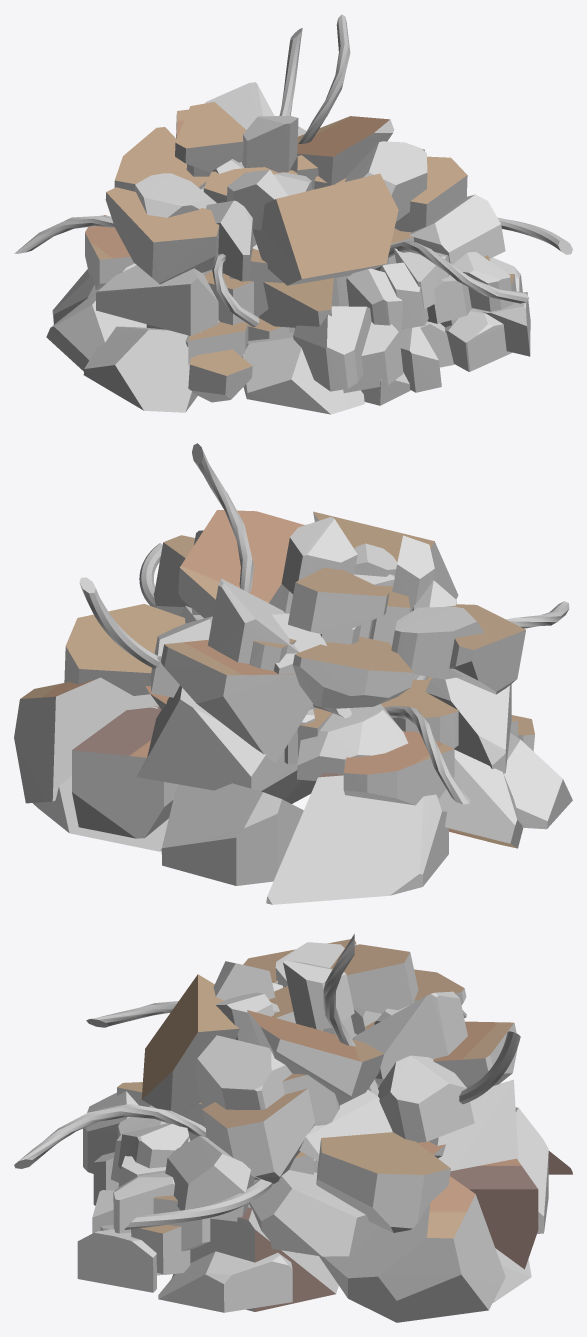
The model's file is Obstacle_Iron.fbx.
3 renders of one model, top to bottom at view 1: azimuth 30°, elevation 25°; view 2: azimuth 150°, elevation 25°; view 3: azimuth 270°, elevation 25°, orthographic. The views are drawn at different scales.
Visible parts, largest first — view 1: Obstacle_IRon; view 2: Obstacle_IRon; view 3: Obstacle_IRon.
Boxes of the visible parts, x1=… form: Obstacle_IRon: x1=14, y1=14, x2=572, y2=414; Obstacle_IRon: x1=14, y1=443, x2=572, y2=904; Obstacle_IRon: x1=14, y1=934, x2=572, y2=1322.
Bounding box in the file's own units: 3.99 × 2.76 × 4.1.
